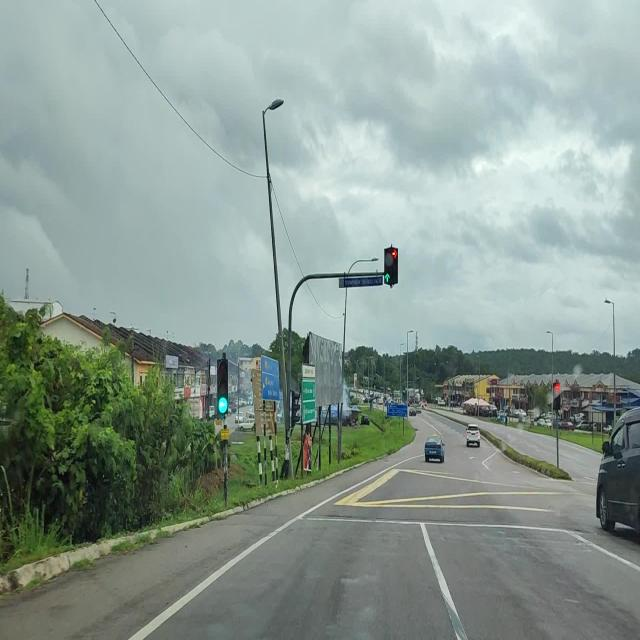car: (595, 403, 640, 556), (424, 436, 446, 464), (464, 424, 481, 448), (238, 418, 255, 432)
traffic light: (217, 360, 229, 416), (384, 247, 398, 286)
